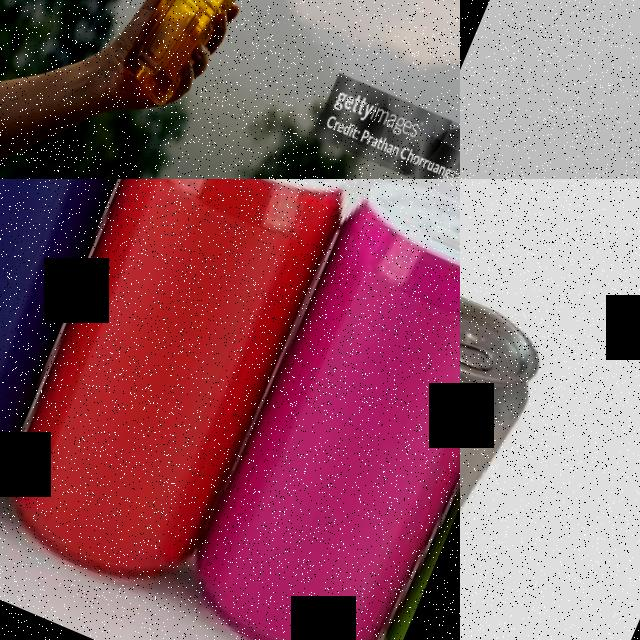bottle: (110, 0, 309, 123)
can: (0, 179, 366, 609), (172, 179, 460, 640), (0, 179, 176, 527), (460, 277, 560, 640), (565, 47, 640, 179)
